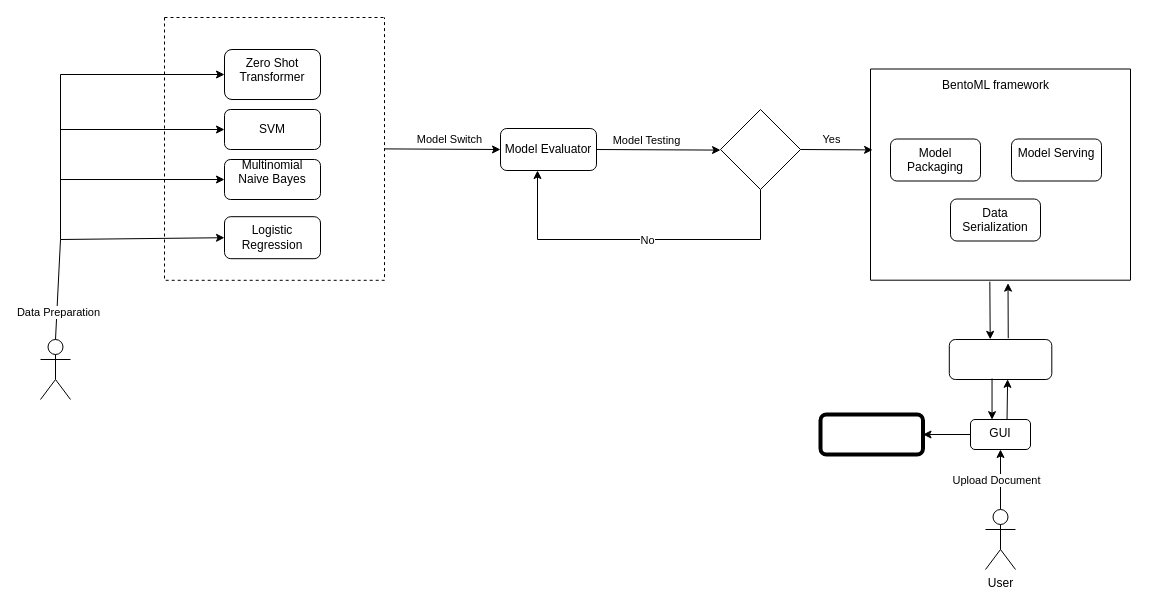
The diagram is 1149 pixels wide and 608 high, and some of its shapes have lost their labels. The shapes that lost their labels are listed below. From the top down, each one's box as (x1, y1, x2, y2) in pixels, then its label:
(164, 16, 384, 280): Model Zoo
(720, 108, 800, 190): Satisfactory results
(40, 338, 70, 400): dev
(948, 338, 1052, 380): API endpoint
(818, 412, 924, 456): Classification result
